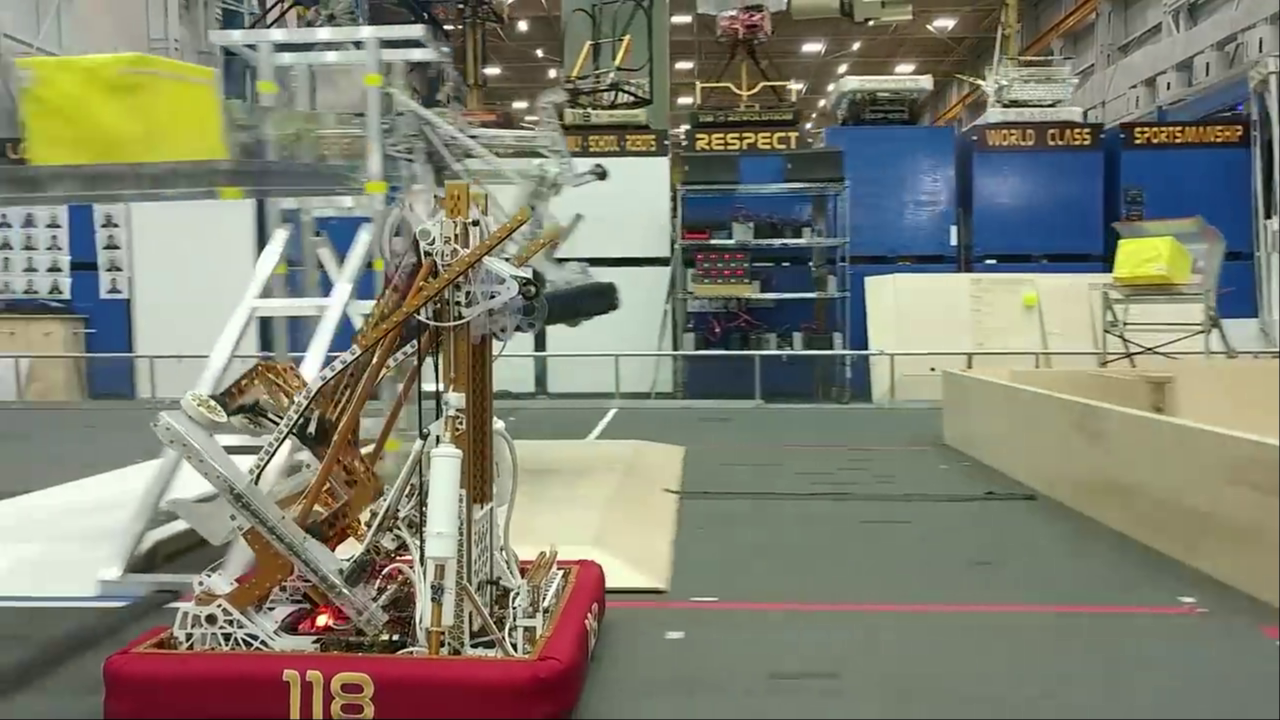cube: (13, 56, 226, 203), (1113, 238, 1189, 302)
